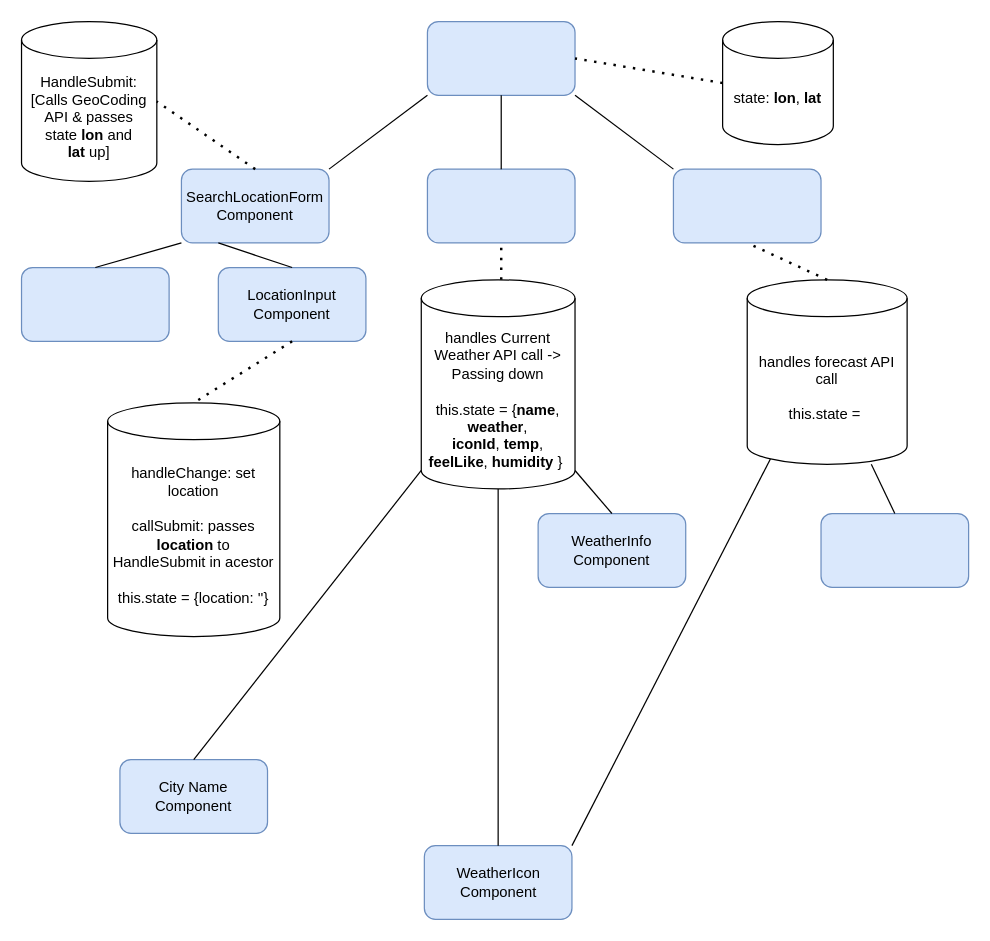
The diagram is 990 pixels wide and 941 high, and some of its shapes have lost their labels. The centre of each missing label's shape, as x and y in pixels:
"DailyForecast component" belongs at pixel 894 549.
"Forecast Component" belongs at pixel 746 205.
"MainDisplay Component" belongs at pixel 500 205.
"SearchIcon Component" belongs at pixel 94 303.
"Weather App" belongs at pixel 500 57.
